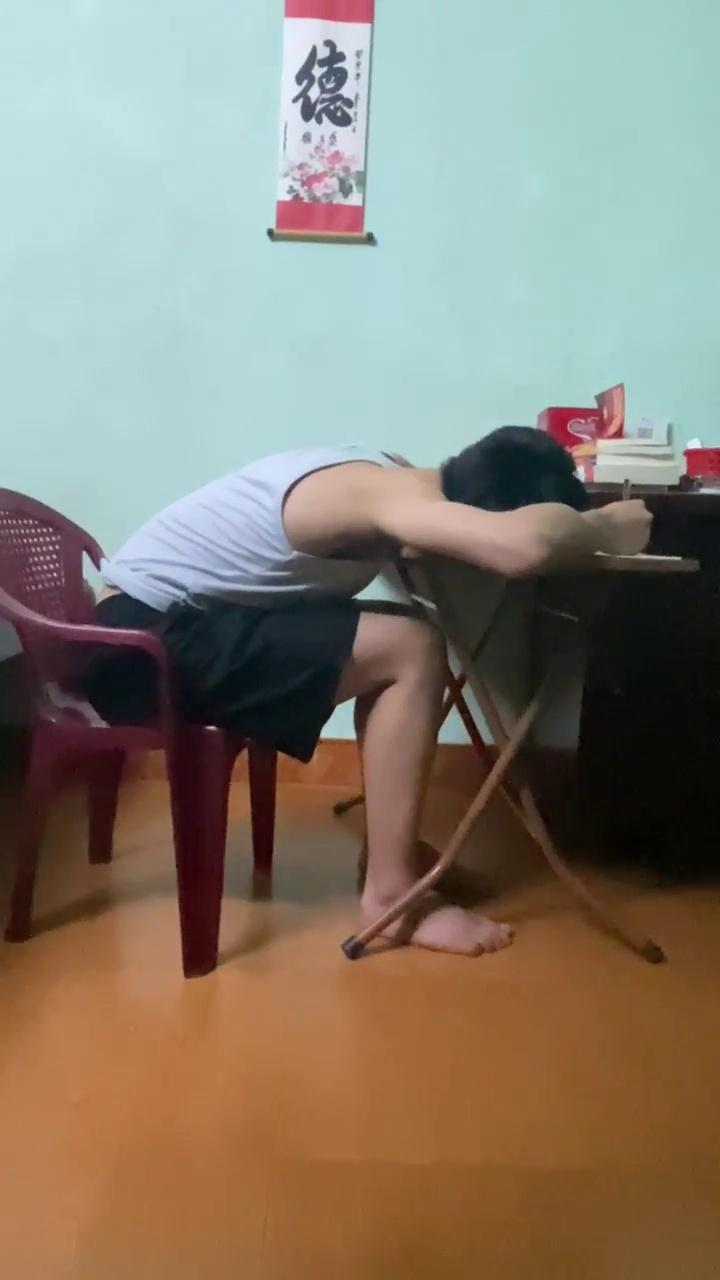BadPosture: (96, 425, 651, 920)
